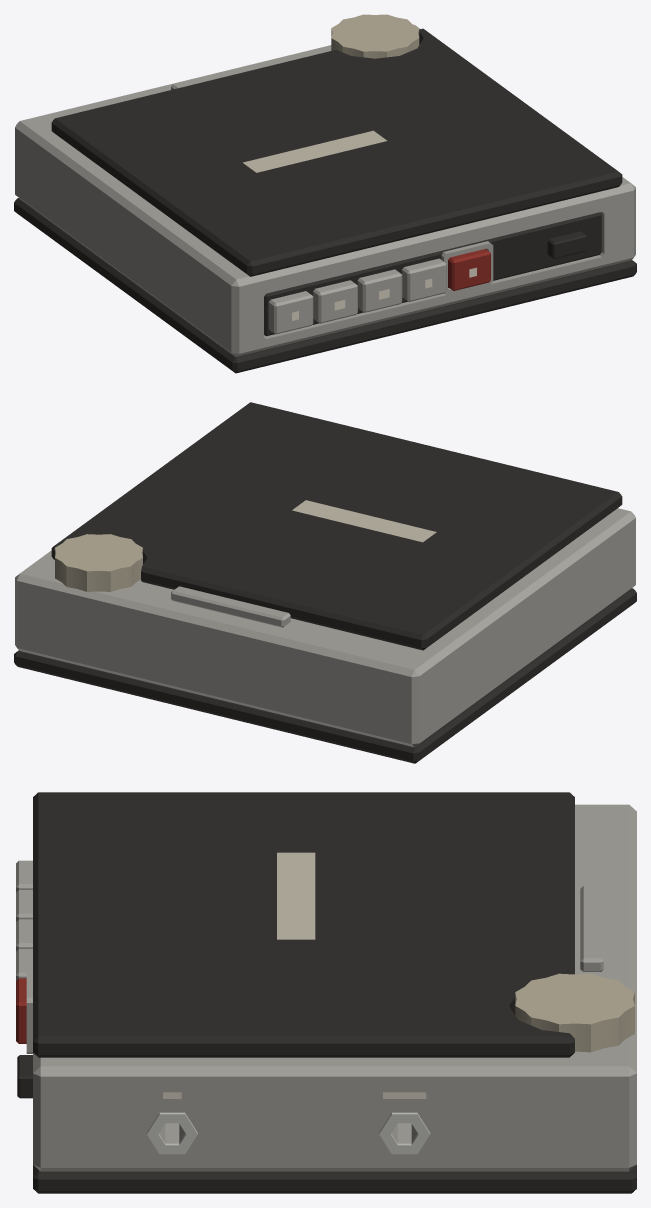
File: portable-md-df3c9b094d11.glb
3 renders of one model, top to bottom at view 1: azimuth 30°, elevation 25°; view 2: azimuth 150°, elevation 25°; view 3: azimuth 270°, elevation 25°, orthographic. The views are drawn at different scales.
Parts seen in each view (by area): view 1: plastic-dark, brushed, plastic-light, decal-print, enamel-red; view 2: plastic-dark, brushed, plastic-light, decal-print; view 3: plastic-dark, brushed, plastic-light, decal-print, chrome, enamel-red.
Boxes of the visible parts, x1,y1,x2,y2 form: plastic-dark: [14, 28, 636, 373]; brushed: [15, 24, 635, 356]; plastic-light: [331, 14, 419, 58]; decal-print: [243, 130, 387, 172]; enamel-red: [448, 249, 490, 290]; plastic-dark: [14, 402, 636, 763]; brushed: [15, 508, 635, 747]; plastic-light: [55, 534, 142, 591]; decal-print: [292, 500, 436, 542]; plastic-dark: [17, 792, 636, 1193]; brushed: [16, 804, 636, 1171]; plastic-light: [515, 973, 634, 1052]; decal-print: [277, 852, 315, 939]; chrome: [146, 1112, 430, 1154]; enamel-red: [16, 978, 26, 1043].
Size of the model in its own units: 0.0825 by 0.022 by 0.0805.
